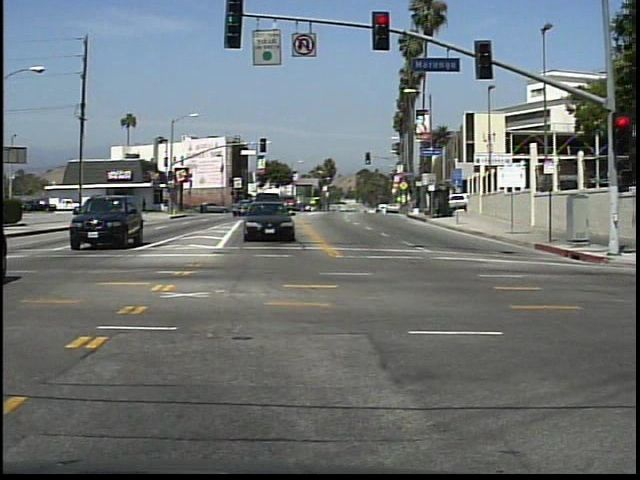person: (136, 193, 152, 222)
